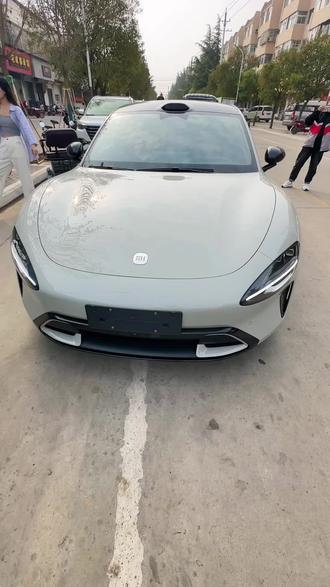su7: (8, 94, 303, 368)
